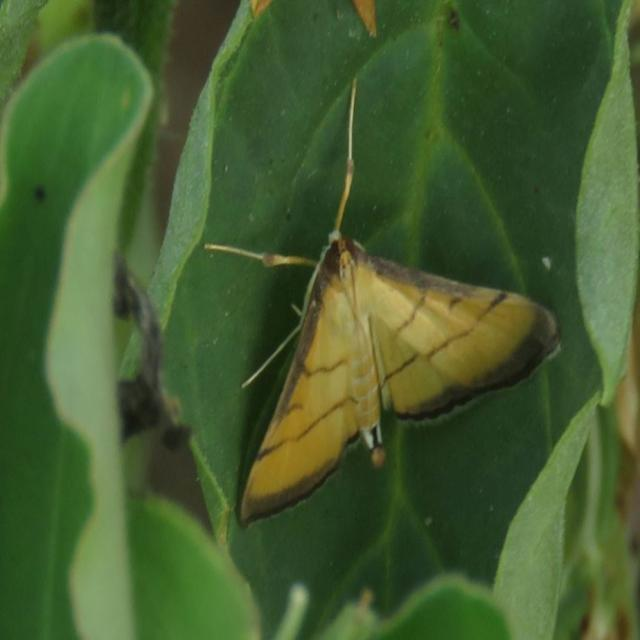rice leaf roller -penggulung daun padi-: (202, 74, 562, 528)
